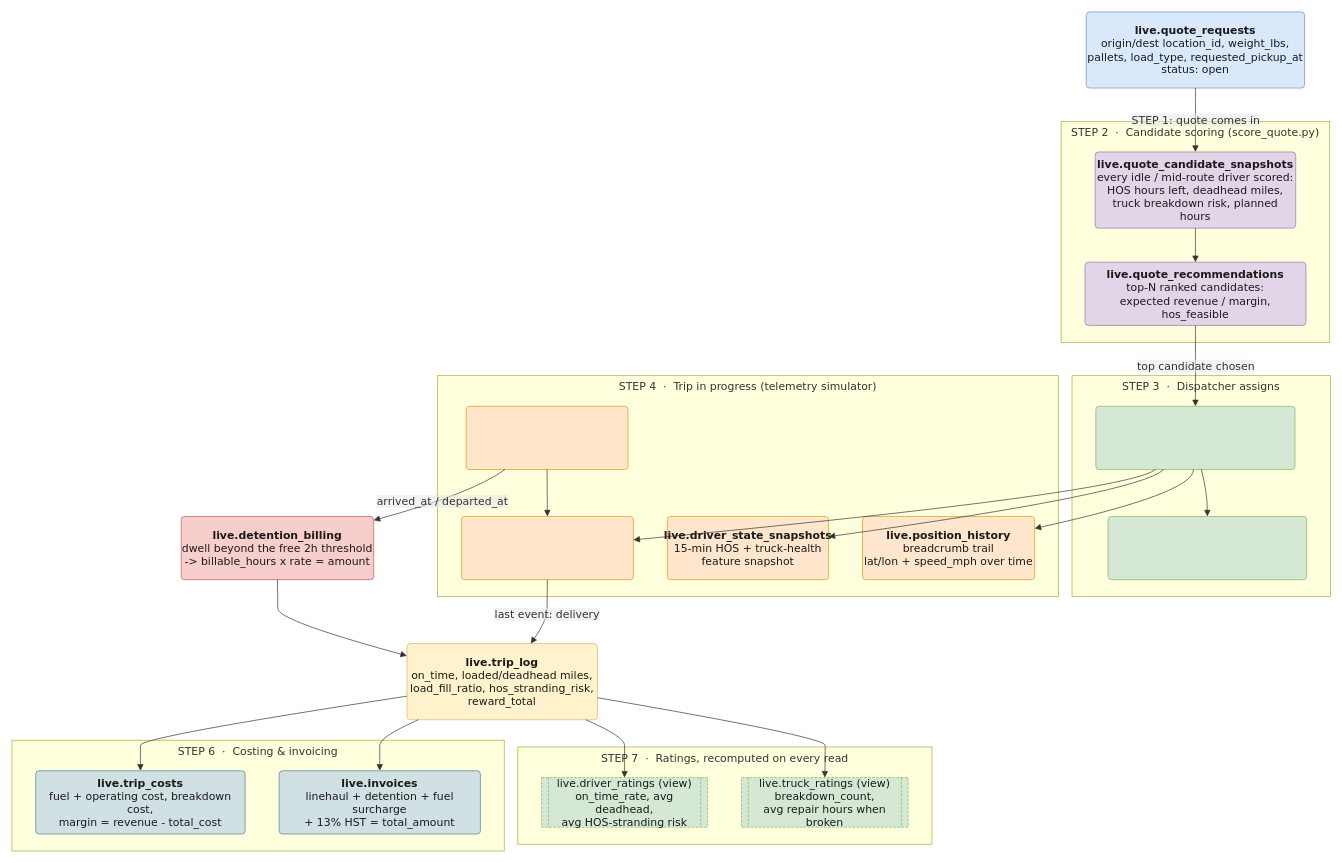
This 1342x863 diagram has some shape labels left out. Here are the shapes that lost their labels. From the top down, the centre of each, then its label:
the point at 546,438: live.geofence_dwell_state debounces noisy GPS pings before an event is confirmed
the point at 1195,438: live.trips driver_id, quote_id, status: assigned origin/dest, eta
the point at 547,548: live.geofence_events arrival / departure timestamps geofence-confirmed
the point at 1207,548: live.driver_status current_trip_id set real-time position, HOS, duty_status
